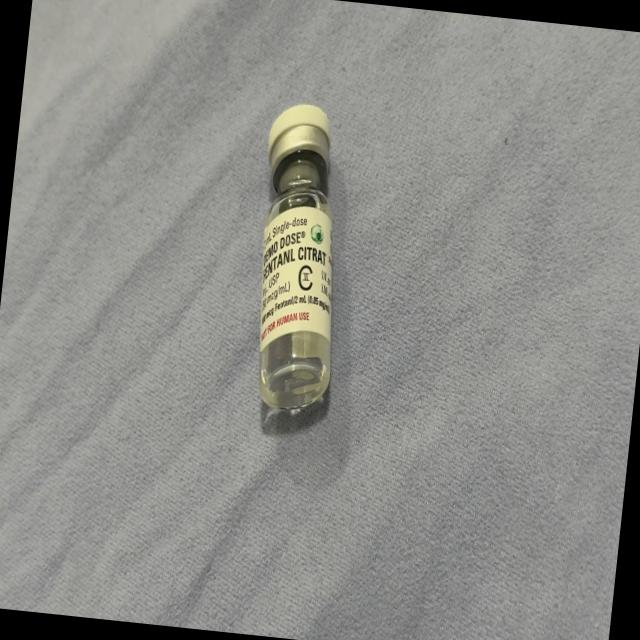fentanl_citrat: (242, 106, 356, 412)
